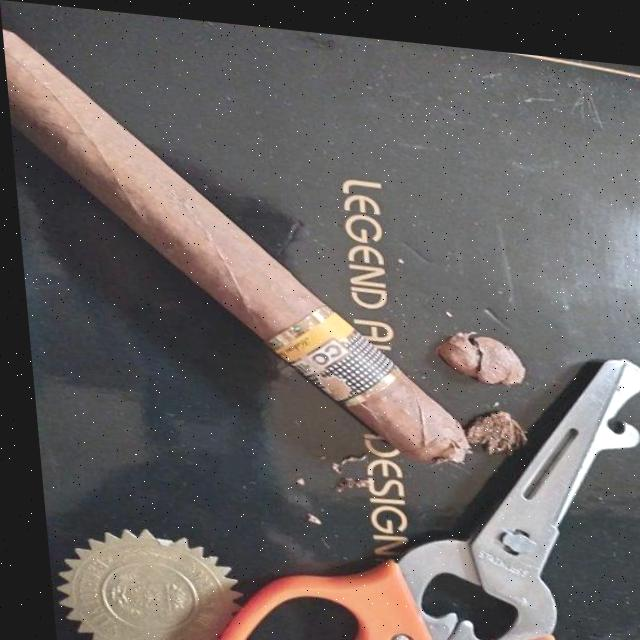cigarette: (3, 36, 456, 465)
